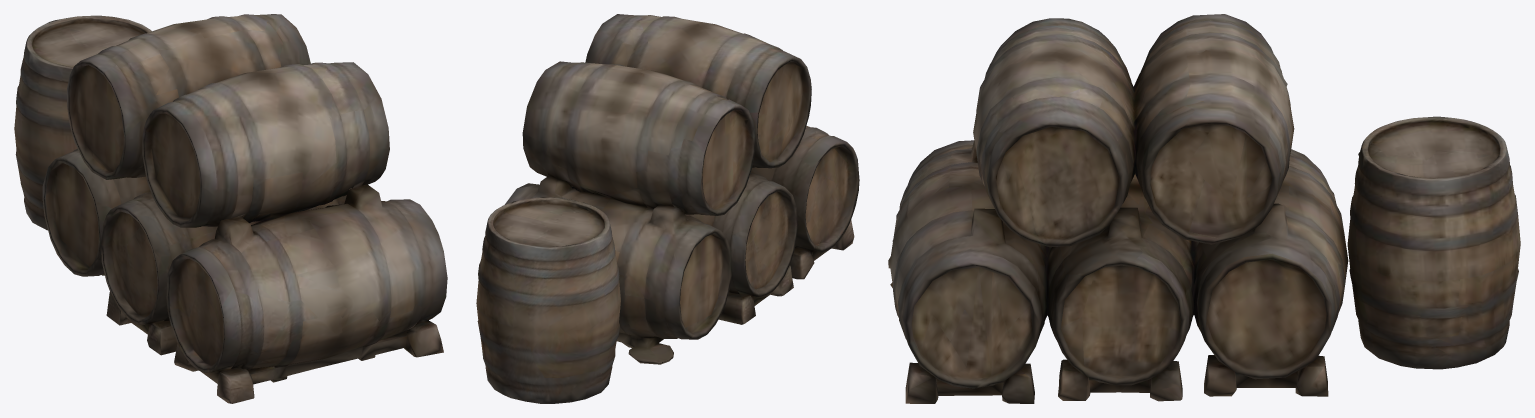
File: prop_barrels.glb
The picture shows the model from 3 angles, left to right: view 1: azimuth 30°, elevation 25°; view 2: azimuth 150°, elevation 25°; view 3: azimuth 270°, elevation 25°; orthographic projection. The views are drawn at different scales.
Visible parts, largest first — view 1: tripo_node_a1fb6296-52cc-4136-b718-522861af88fe; view 2: tripo_node_a1fb6296-52cc-4136-b718-522861af88fe; view 3: tripo_node_a1fb6296-52cc-4136-b718-522861af88fe.
Boxes of the visible parts, x1=… form: tripo_node_a1fb6296-52cc-4136-b718-522861af88fe: x1=14, y1=14, x2=447, y2=403; tripo_node_a1fb6296-52cc-4136-b718-522861af88fe: x1=476, y1=14, x2=859, y2=403; tripo_node_a1fb6296-52cc-4136-b718-522861af88fe: x1=888, y1=14, x2=1520, y2=403.
Bounding box in the file's own units: 0.4622 × 0.5034 × 1.
Materials: 1 (1 with a texture image).
